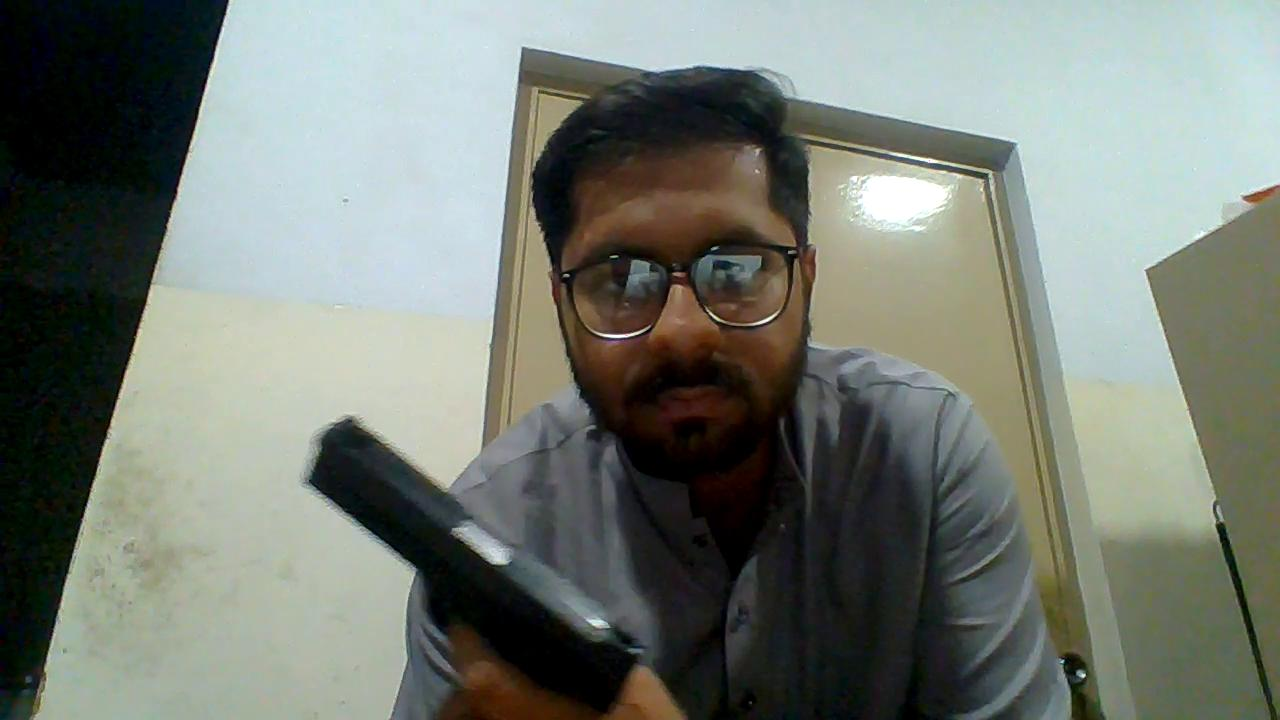criminal: (299, 62, 1074, 720)
weapon: (300, 419, 637, 714)
